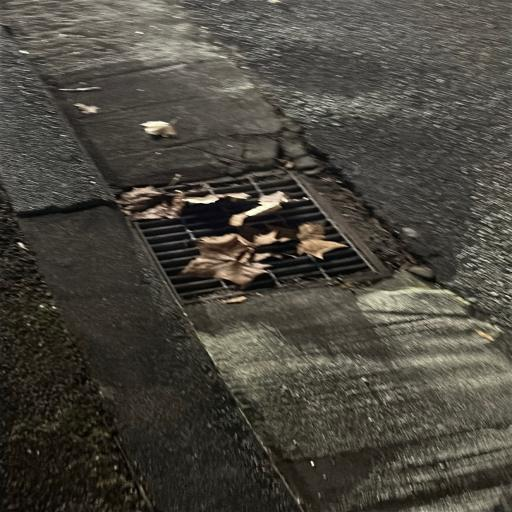debris: (181, 226, 279, 288), (121, 191, 188, 220), (296, 221, 345, 256), (258, 192, 289, 215), (362, 252, 380, 271), (228, 212, 248, 228), (282, 229, 292, 240), (215, 288, 229, 295), (344, 273, 357, 278), (362, 271, 373, 276), (230, 197, 240, 201), (205, 194, 215, 198)
drain: (118, 174, 384, 301)
